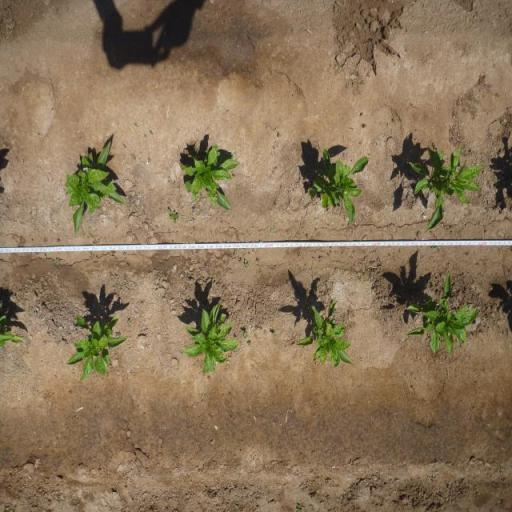plant: (406, 149, 489, 234), (404, 271, 478, 357), (64, 138, 128, 237), (304, 144, 370, 226), (180, 301, 238, 377), (294, 297, 354, 369), (182, 142, 240, 212), (71, 312, 126, 382), (0, 312, 26, 352)
weed: (168, 208, 180, 226), (243, 259, 250, 270), (241, 330, 249, 339), (270, 224, 276, 233), (430, 245, 440, 250), (130, 153, 136, 161), (361, 122, 367, 130), (126, 318, 132, 326), (54, 258, 61, 264), (271, 331, 278, 337), (247, 340, 253, 347), (133, 122, 139, 128), (431, 143, 436, 150), (43, 254, 47, 262), (34, 310, 38, 318), (307, 232, 310, 242), (155, 224, 158, 232), (238, 257, 242, 263), (149, 129, 153, 135), (277, 133, 281, 138), (234, 250, 236, 258), (148, 157, 150, 164)
